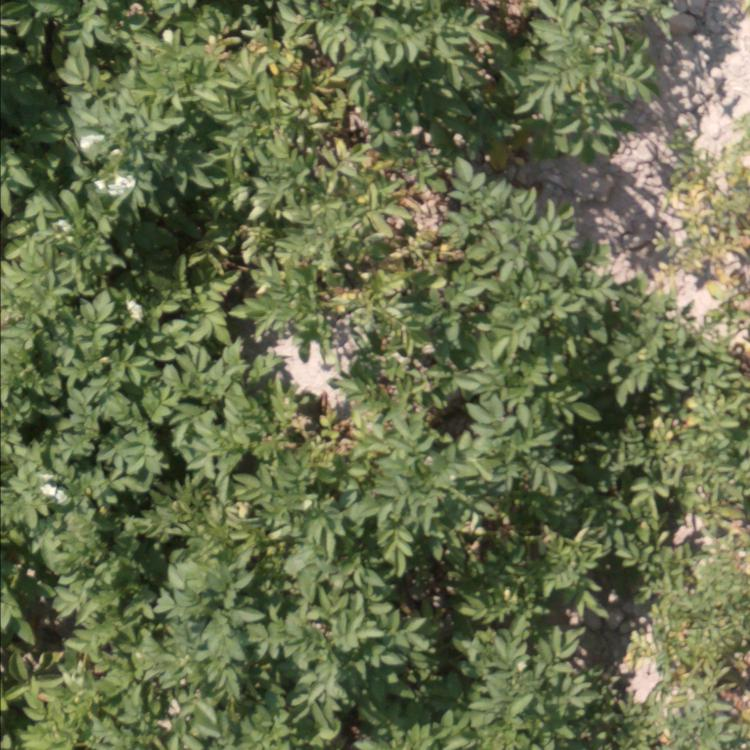healthy: (301, 414, 603, 746), (1, 219, 289, 478), (1, 482, 280, 747), (1, 1, 255, 217), (426, 164, 602, 411), (611, 281, 736, 517), (494, 1, 660, 167), (630, 539, 740, 750), (275, 1, 453, 90)
stressed: (297, 95, 412, 291), (668, 129, 745, 280)
